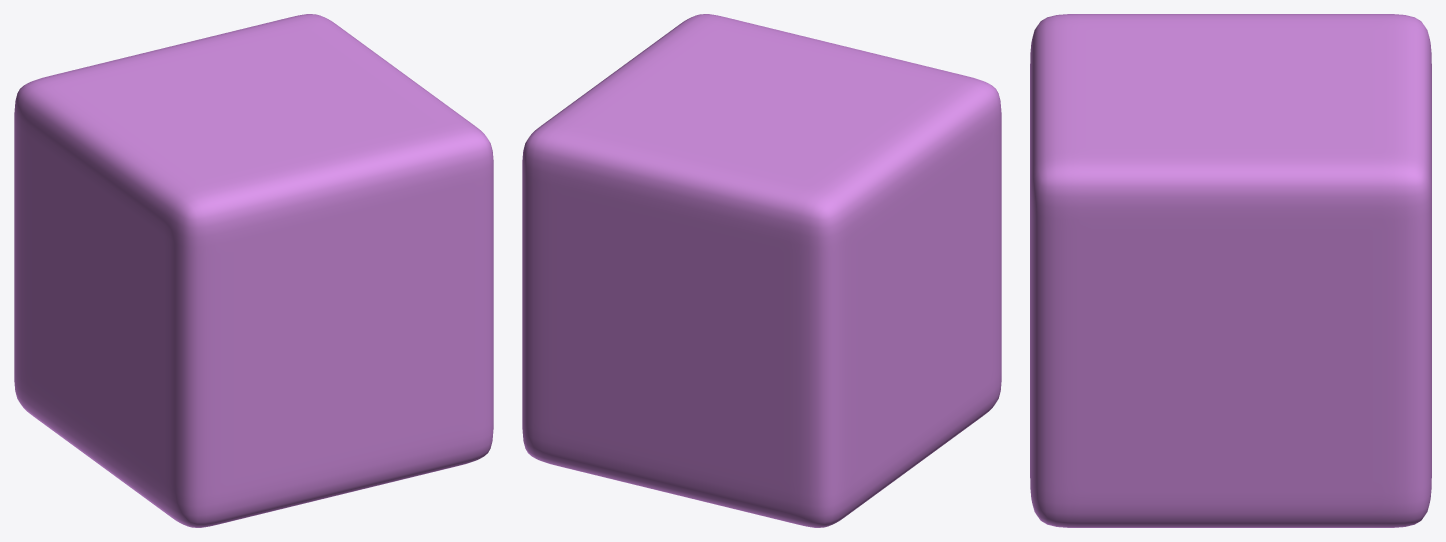
3 renders of one model, left to right at view 1: azimuth 30°, elevation 25°; view 2: azimuth 150°, elevation 25°; view 3: azimuth 270°, elevation 25°, orthographic. The views are drawn at different scales.
Visible parts, largest first — view 1: D6; view 2: D6; view 3: D6.
Boxes of the visible parts, x1,y1,x2,y2 form: D6: (14, 14, 493, 527); D6: (522, 14, 1001, 527); D6: (1030, 14, 1431, 527).
Bounding box in the file's own units: 200 × 200 × 200.
